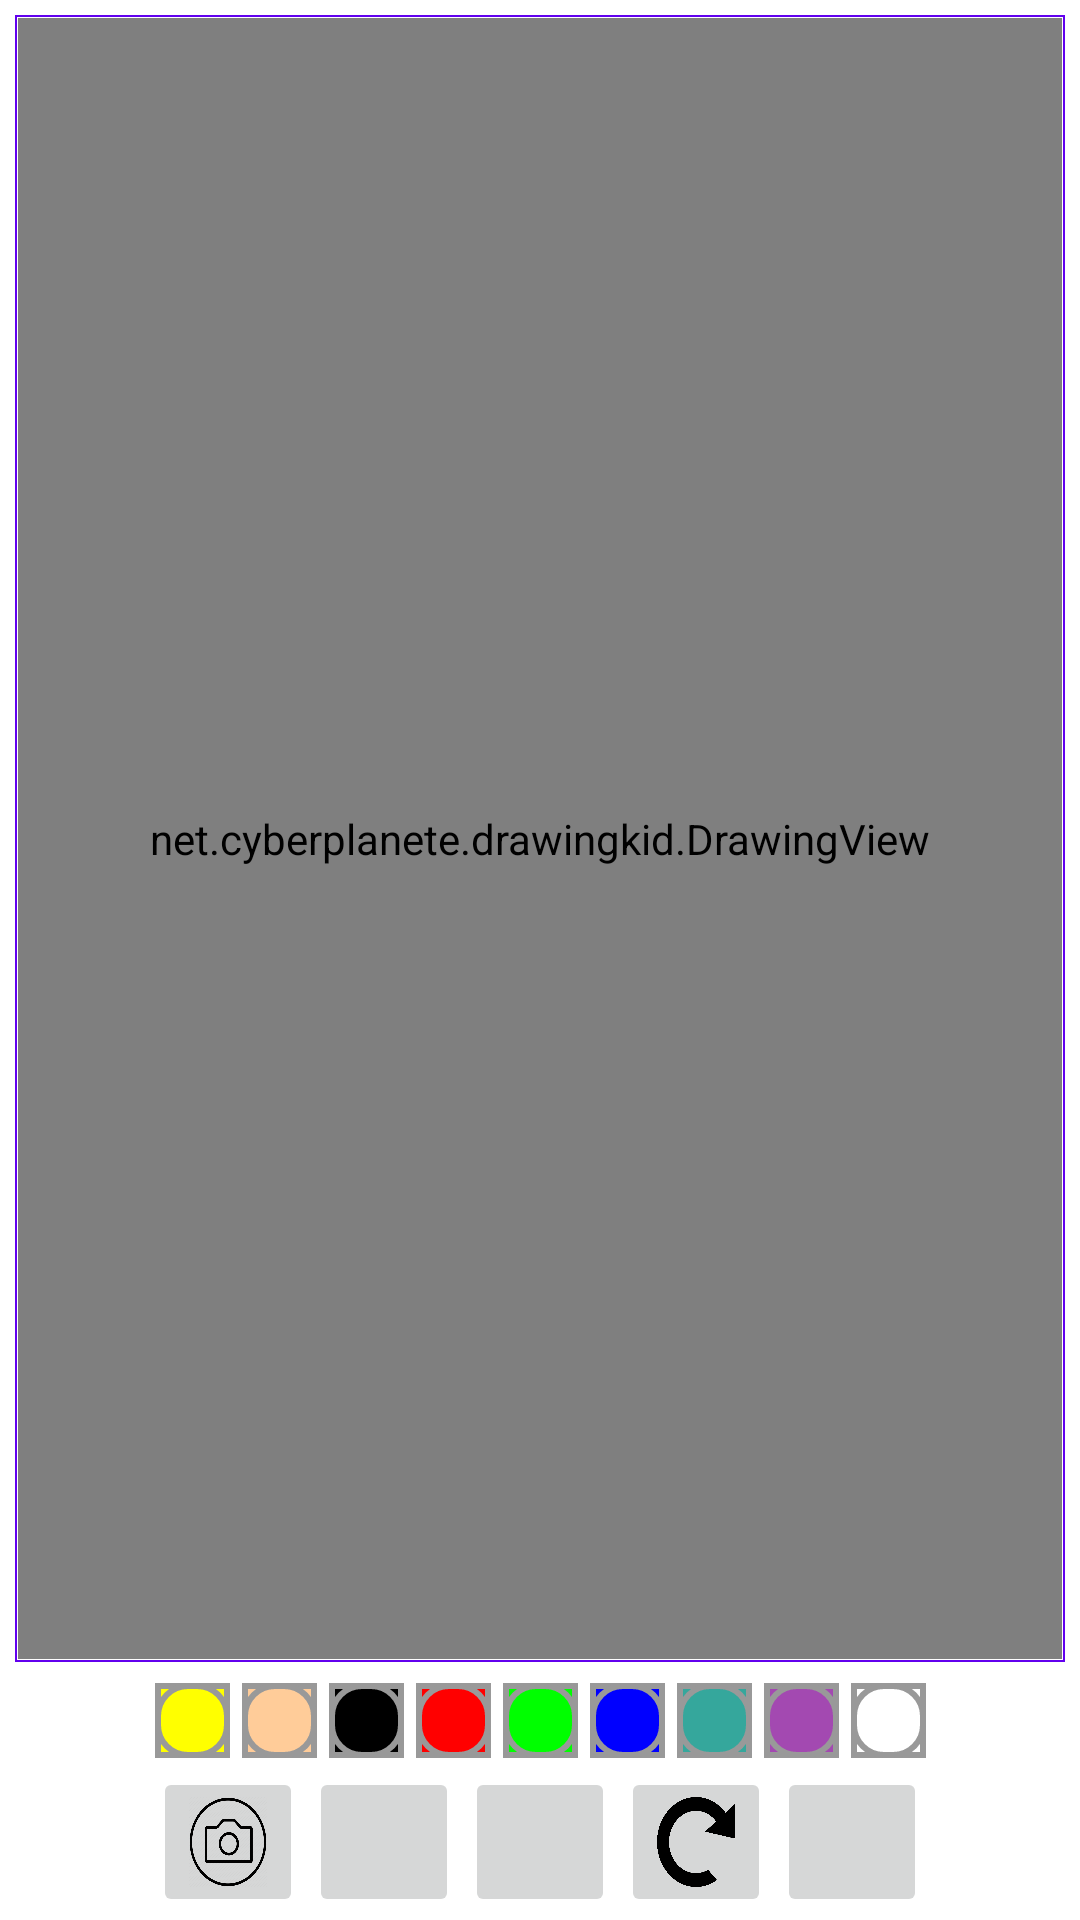

Point at icon controls on the screen. Image size 1080×1920, points as [x,y].
redo: [696,1842]
